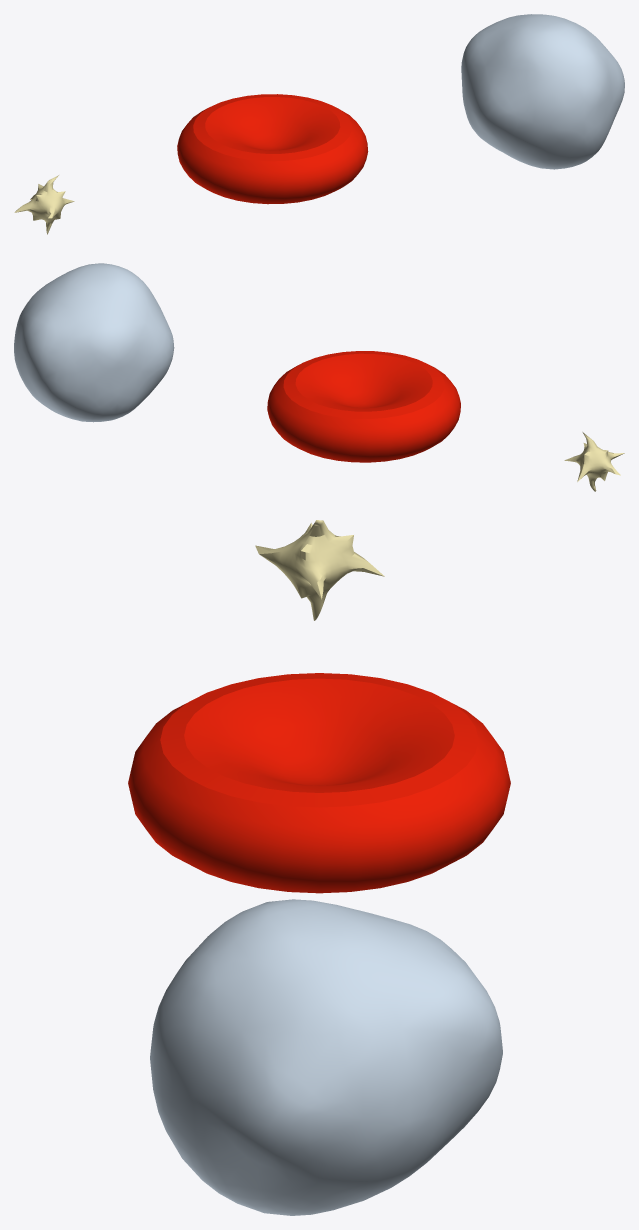
Rendered from Blood cells.glb.
3 views of the same model, one above another, from view 1: azimuth 30°, elevation 25°; view 2: azimuth 150°, elevation 25°; view 3: azimuth 270°, elevation 25° (orthographic). The views are drawn at different scales.
Visible parts, largest first — view 1: White blood cells, Red blood cells, Platelets; view 2: White blood cells, Red blood cells, Platelets; view 3: White blood cells, Red blood cells, Platelets.
Boxes of the visible parts, bbox=[...] form: White blood cells: bbox=[461, 14, 624, 169]; Red blood cells: bbox=[177, 94, 368, 204]; Platelets: bbox=[14, 175, 74, 234]; White blood cells: bbox=[14, 263, 174, 422]; Red blood cells: bbox=[267, 351, 460, 462]; Platelets: bbox=[564, 432, 624, 491]; White blood cells: bbox=[150, 899, 502, 1215]; Red blood cells: bbox=[128, 673, 510, 893]; Platelets: bbox=[255, 520, 384, 620].
Bounding box in the file's own units: 5.93 × 1.33 × 1.65.
